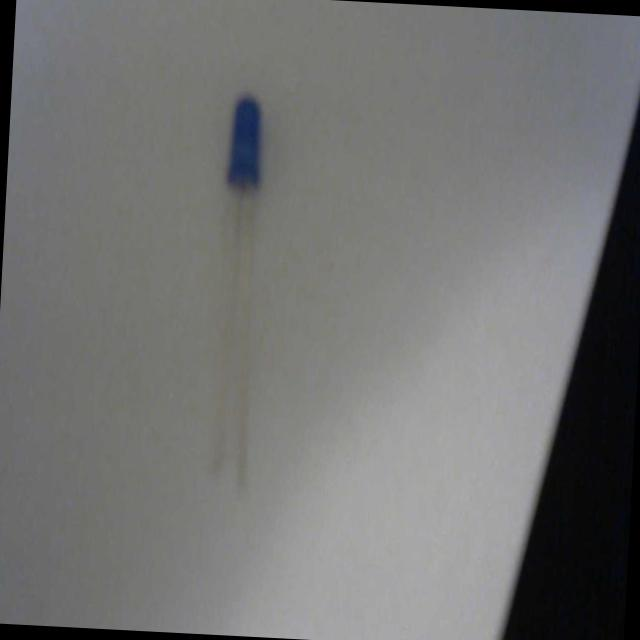blue_led: (227, 92, 264, 190)
